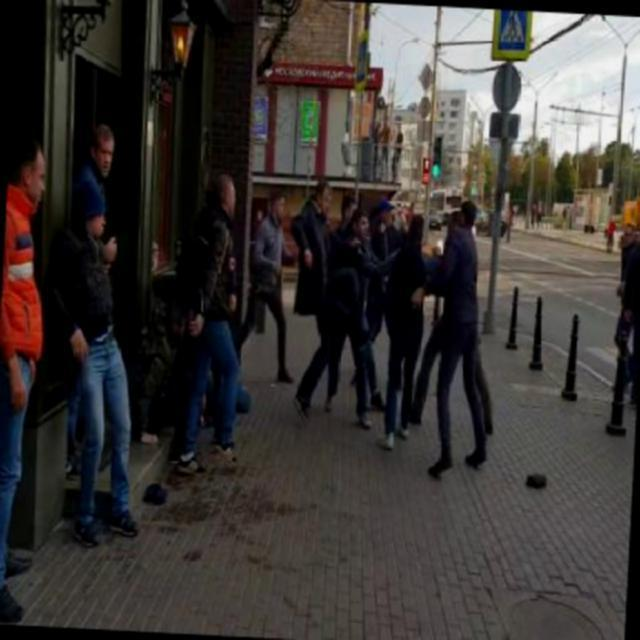fight: (308, 194, 441, 450), (275, 176, 377, 421)
non-fight: (44, 189, 158, 542), (0, 143, 60, 626), (168, 172, 258, 476)
